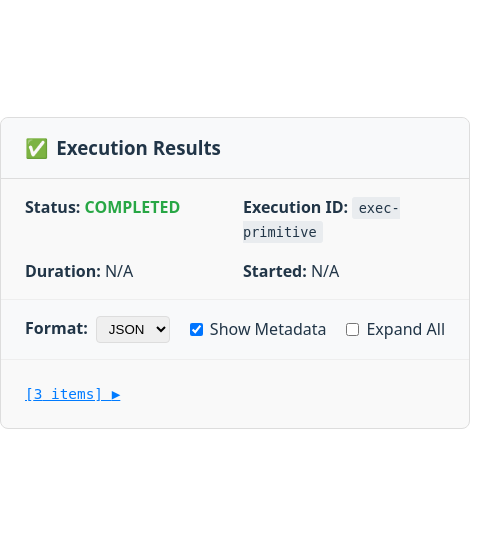
Test: WorkflowExecutionResults › handles array of primitive values in table view
# Switch to table format
Select "Table" in the dropdown showing "JSON". click: (133, 330)
box: [96,316,170,343]
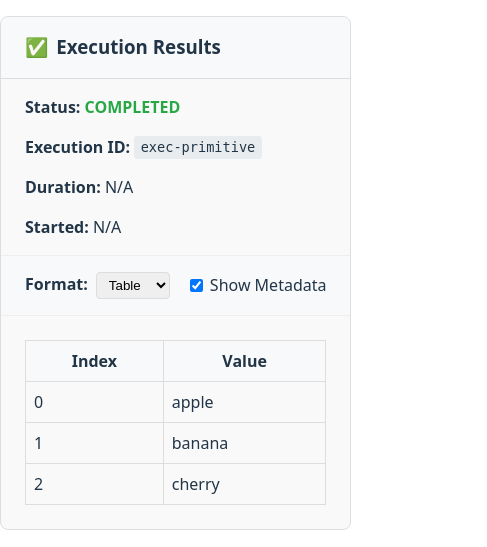
Check: the column heading "Index" is shown, box [26,340,163,381]
Check: the column heading "Value" is shown, box [163,340,326,381]
Check: the text "apple" is shown, box [163,381,326,422]
